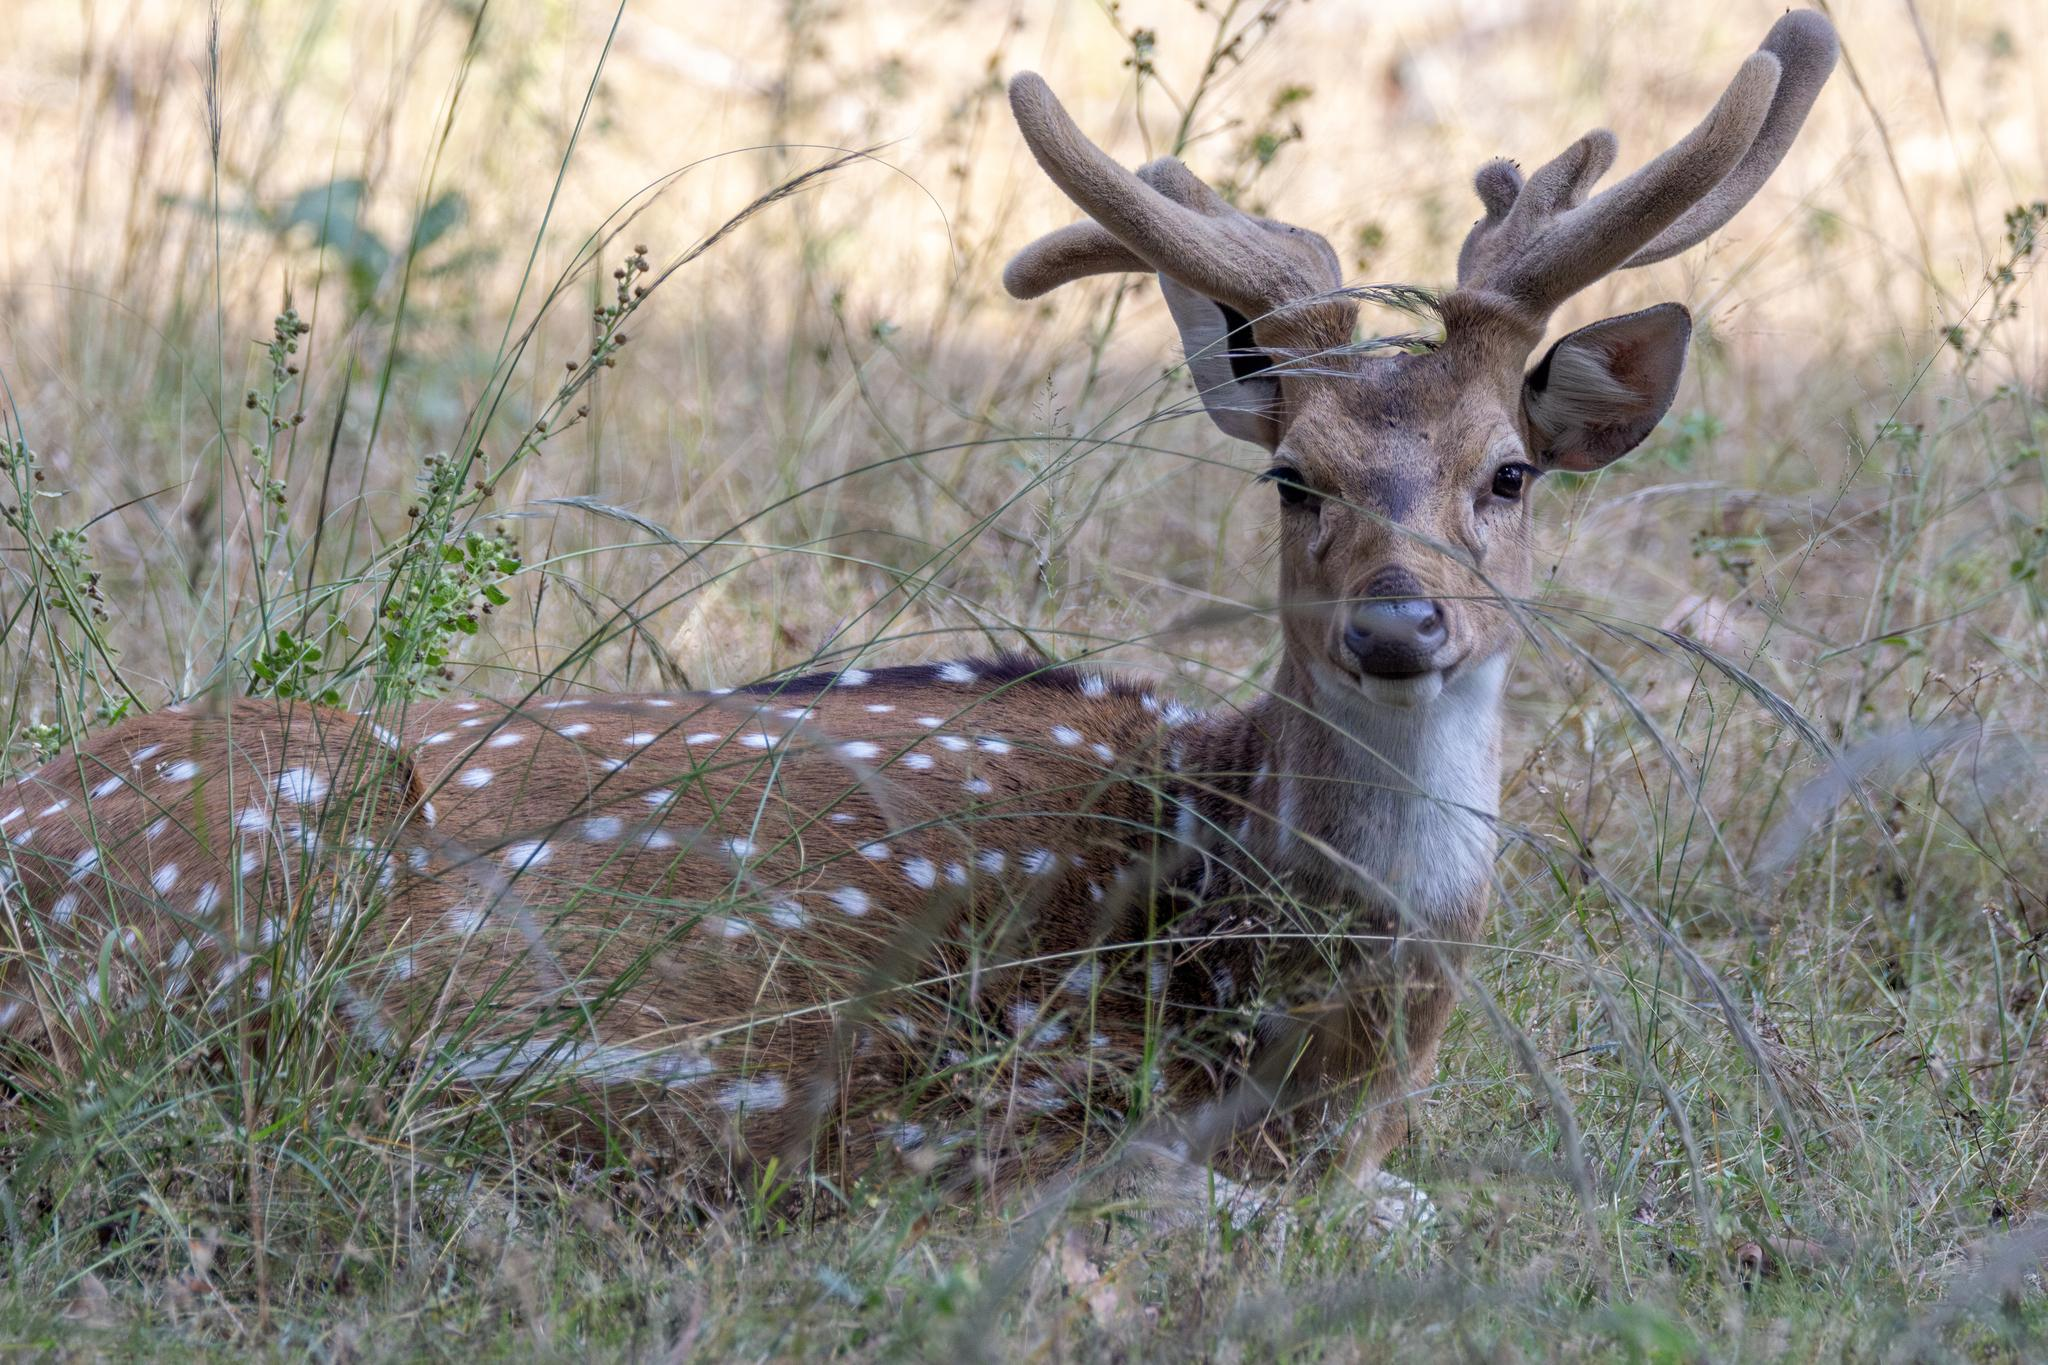Deer: (0, 12, 1835, 1184)
